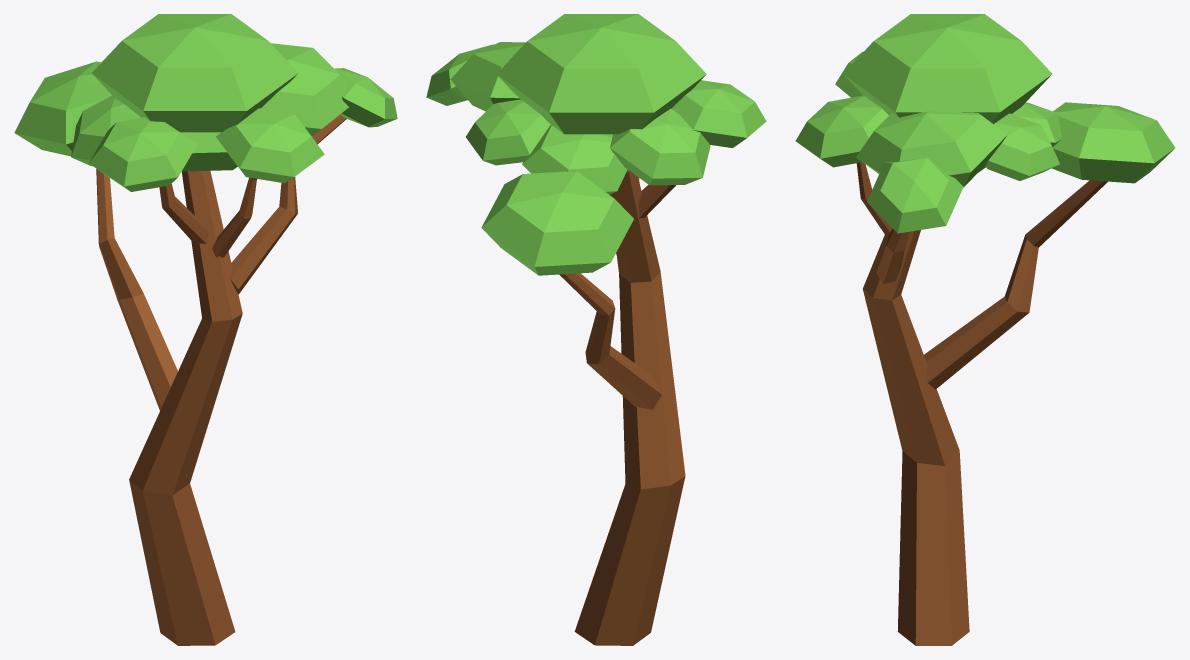
File: tree_pine.fbx
3 renders of one model, left to right at view 1: azimuth 30°, elevation 25°; view 2: azimuth 150°, elevation 25°; view 3: azimuth 270°, elevation 25°, orthographic.
Visible parts, largest first — view 1: Sphere, Cylinder; view 2: Sphere, Cylinder; view 3: Sphere, Cylinder.
Part boxes in pixels (box(x1,y1,x2,y2)): Sphere: box(14, 14, 397, 191); Cylinder: box(96, 114, 346, 645); Sphere: box(426, 14, 766, 275); Cylinder: box(559, 171, 685, 645); Sphere: box(795, 14, 1175, 233); Cylinder: box(856, 162, 1107, 645).
Bounding box in the file's own units: 422 × 798 × 454.
